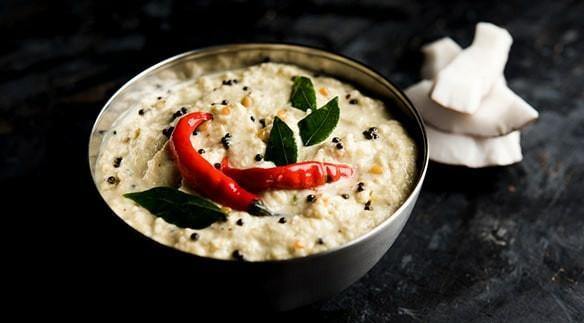CoconutChutney: (99, 63, 415, 257)
